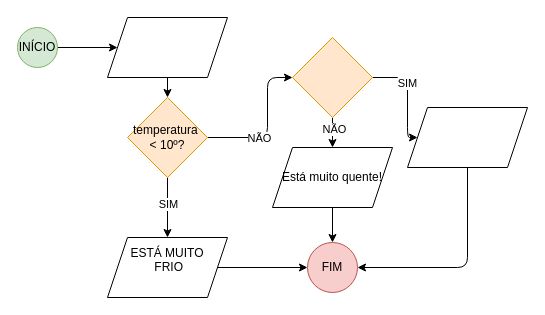
Image size: 545x315. Some labels were removed from this diagram. The shapes that lost their labels are listed below. From the top down, each one's centre as x and y in pixels, then its label:
At [167,47]: "Informe uma temperatura".
At [332,77]: "temperatura < 25º?".
At [467,137]: "Clima Agradável".
